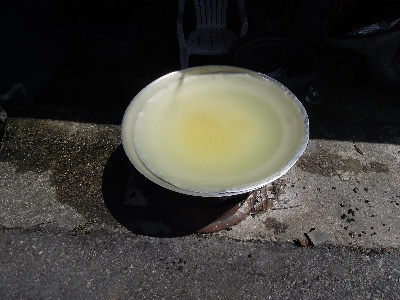plate: (119, 63, 314, 199)
